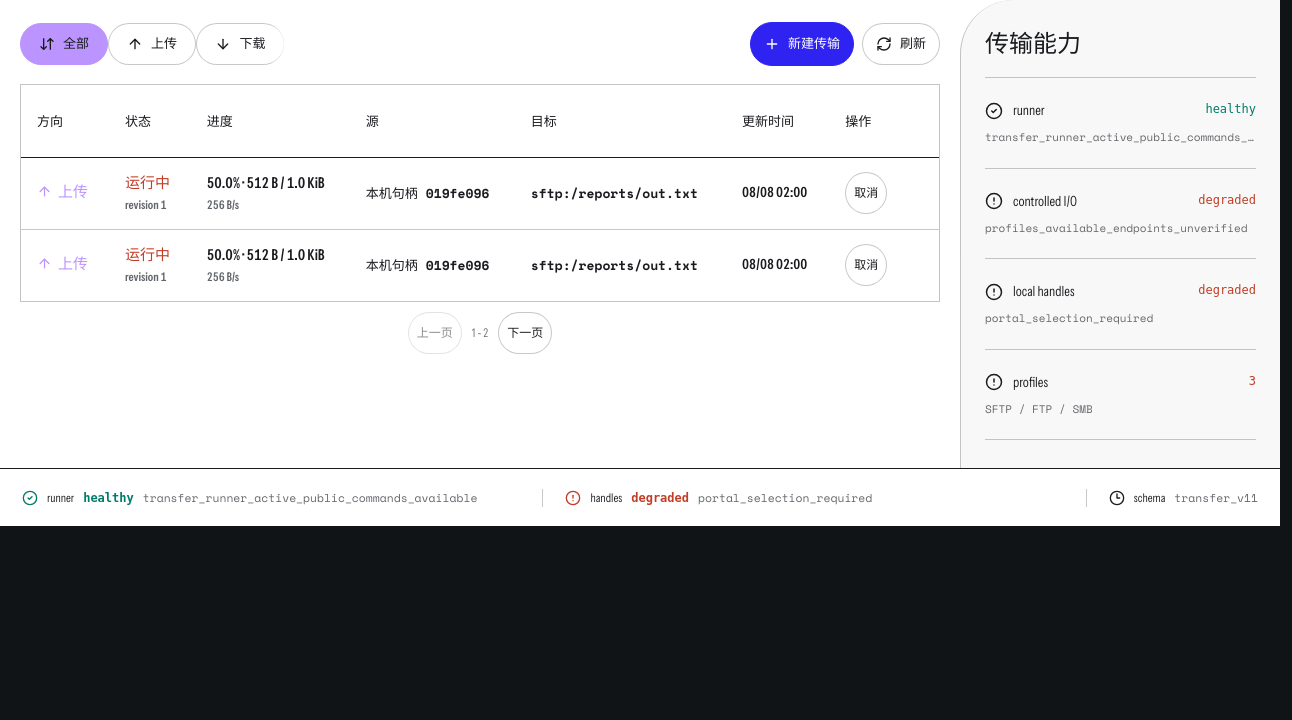
Test: TransfersView › freezes queue queries during a task mutation but keeps other task mutations independent
Click the 1st button "取消" at (866, 193), box [845,172,887,214]
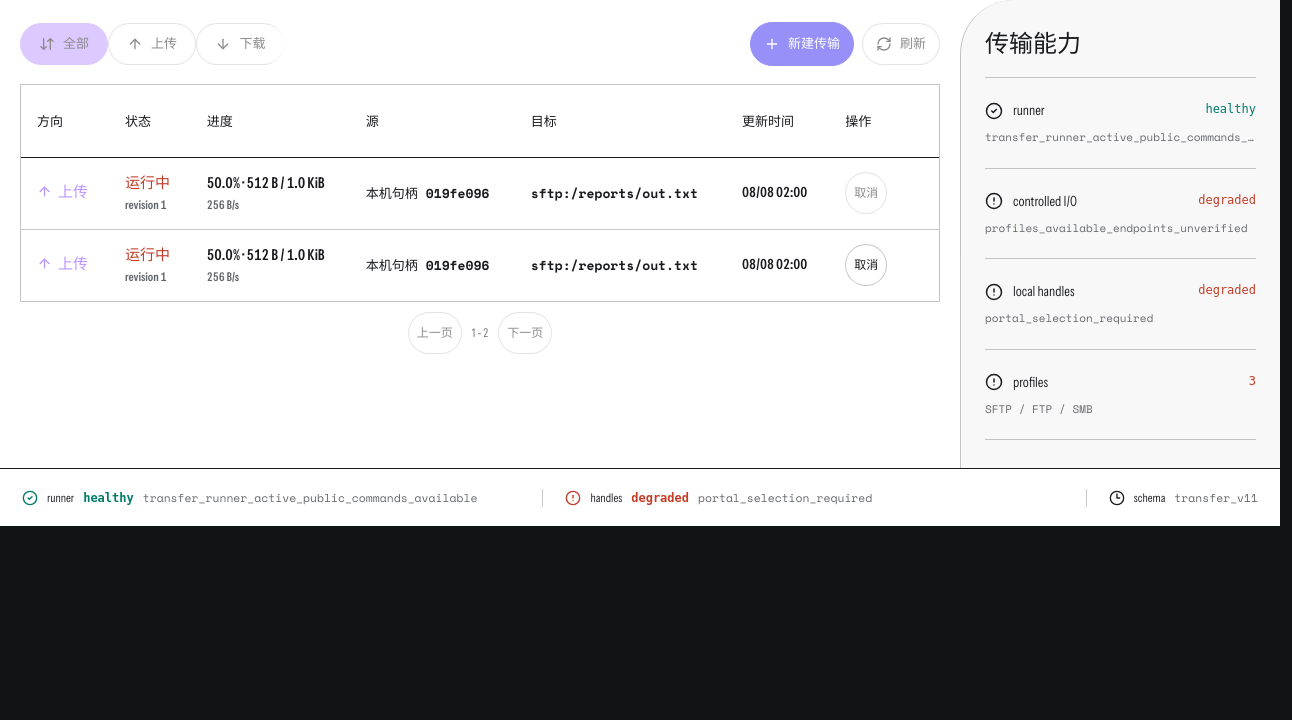
Expected: the tab "上传" is disabled, [108,23,196,65]
Expected: the button "刷新" is disabled, [862,23,940,65]
Expected: the button "下一页" is disabled, [498,312,552,354]
Click the 2nd button "取消" at (866, 265), box [845,244,887,286]
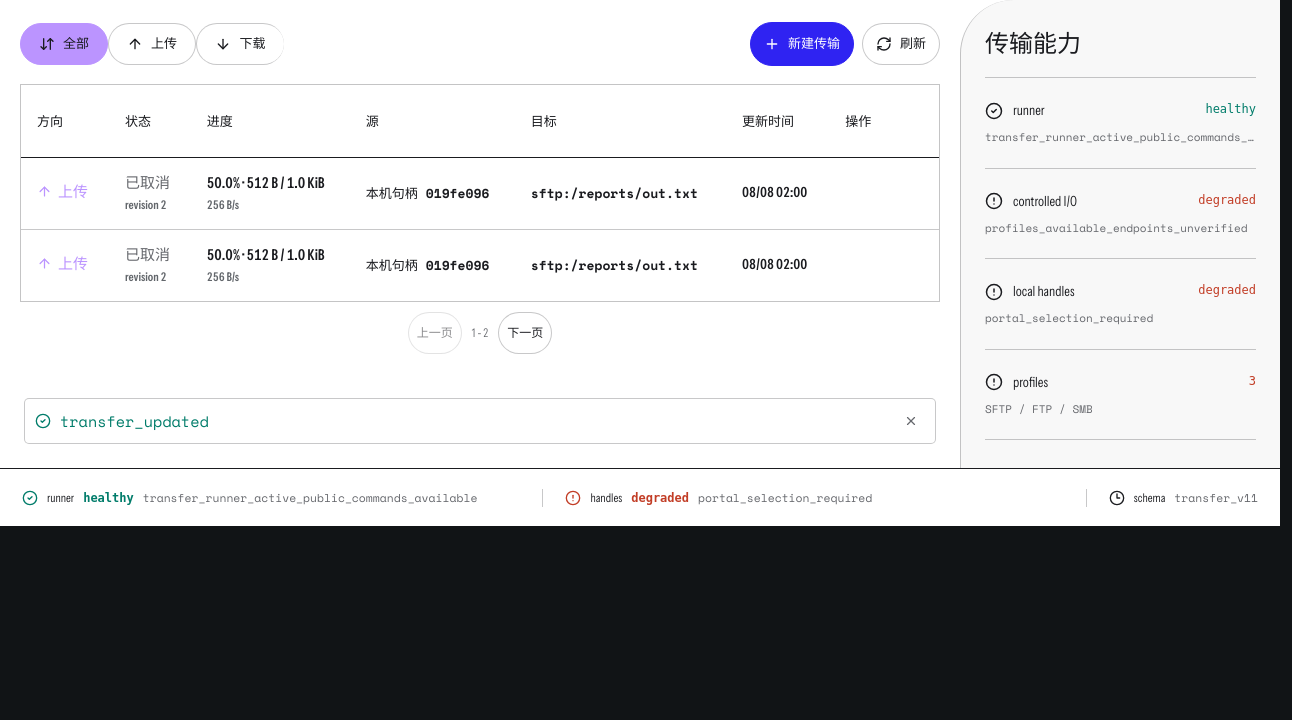
Expected: the tab "上传" is enabled, [108,23,196,65]
Expected: the text "已取消" is shown, [125,172,175,193]
